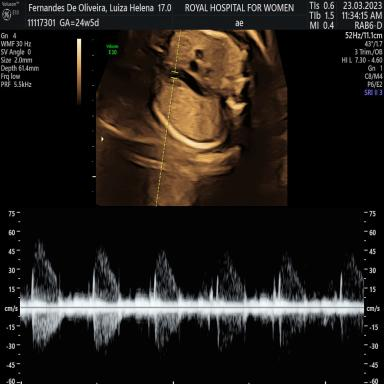Ultrasound-Waves: (26, 216, 363, 384)
